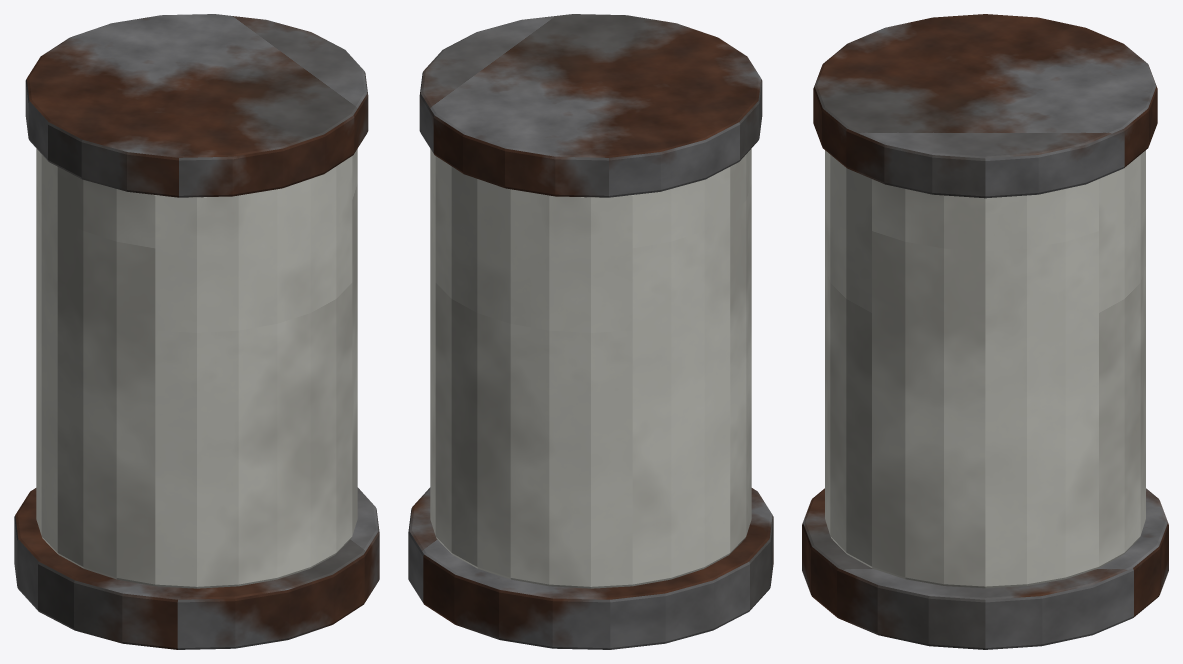
File: Y04_brain_jar_specimen_v1.glb
The picture shows the model from 3 angles, left to right: view 1: azimuth 30°, elevation 25°; view 2: azimuth 150°, elevation 25°; view 3: azimuth 270°, elevation 25°; orthographic projection.
Visible parts, largest first — view 1: Y04_brain_jar_specimen_v1; view 2: Y04_brain_jar_specimen_v1; view 3: Y04_brain_jar_specimen_v1.
Part boxes in pixels (box(x1,y1,x2,y2)): Y04_brain_jar_specimen_v1: box(14, 14, 379, 649); Y04_brain_jar_specimen_v1: box(408, 14, 773, 649); Y04_brain_jar_specimen_v1: box(802, 14, 1168, 649).
Size of the model in its own units: 0.3404 by 0.5 by 0.3404.
3 materials, 3 textured.
